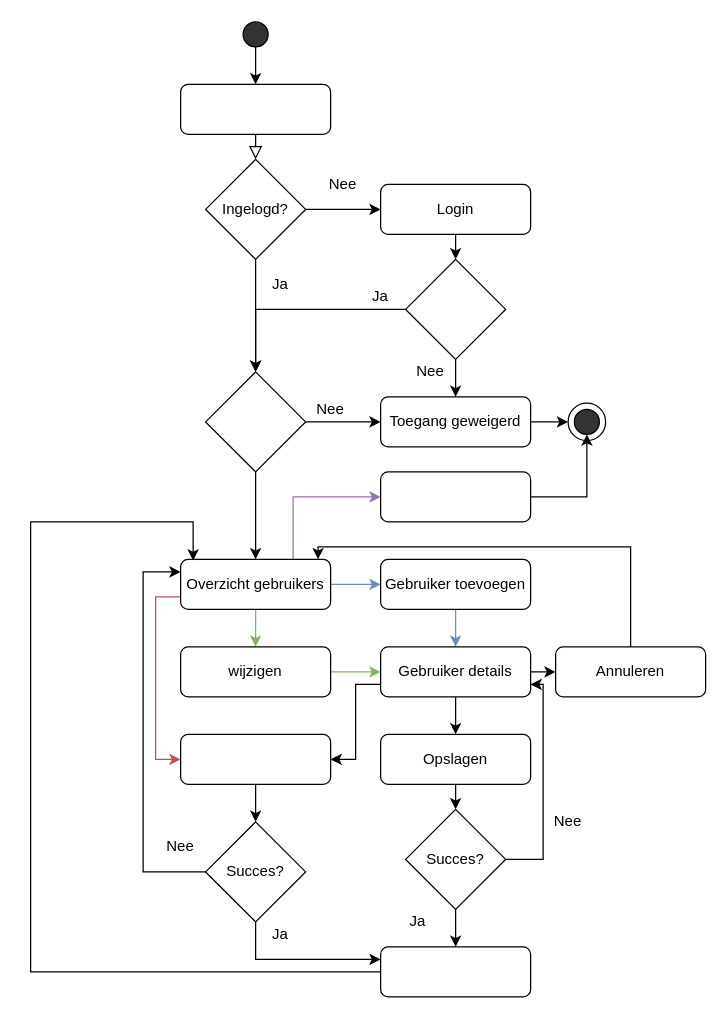
This 728x1019 diagram has some shape labels left out. The shapes that lost their labels are listed below. From the top down, each one's box as (x1, y1, x2, y2) in pixels, then its label:
(179, 83, 331, 134): Manager module
(404, 258, 506, 359): login succes?
(204, 371, 306, 472): Voldoende rechten?
(379, 471, 531, 522): Afmelden
(179, 733, 331, 784): Verwijderen
(379, 946, 531, 997): Update view
